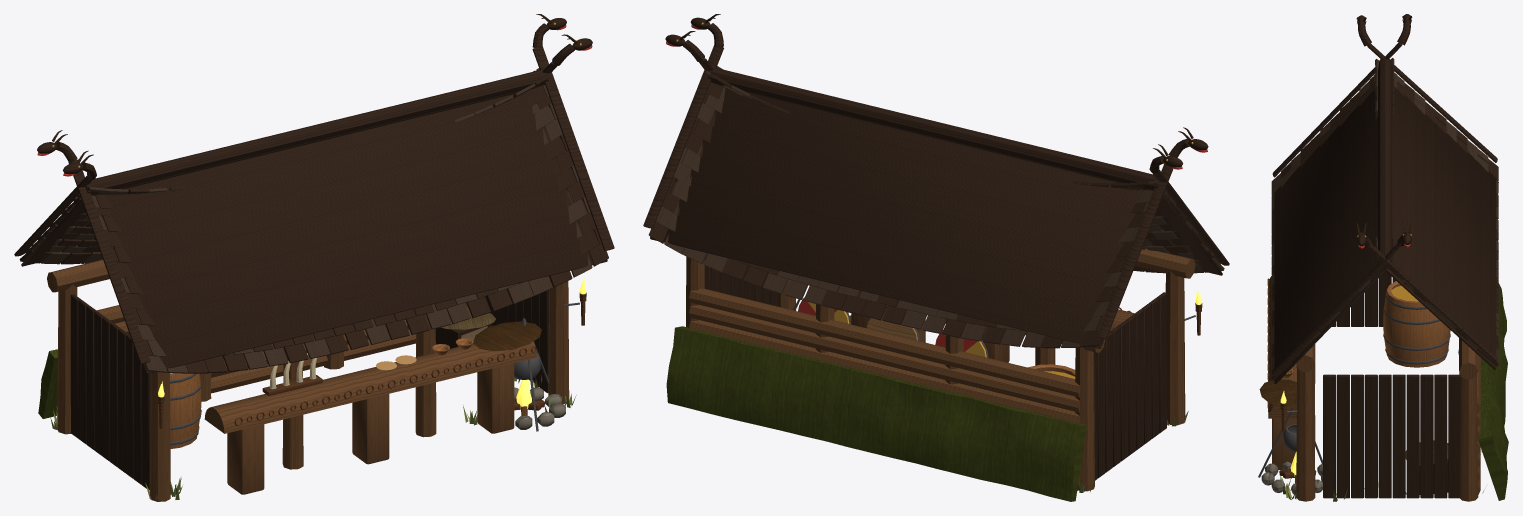
Rendered from tavern-norse.glb.
3 views of the same model, side by side, from view 1: azimuth 30°, elevation 25°; view 2: azimuth 150°, elevation 25°; view 3: azimuth 270°, elevation 25° (orthographic). The views are drawn at different scales.
Parts seen in each view (by area): view 1: tavern_norse; view 2: tavern_norse; view 3: tavern_norse.
Boxes of the visible parts, x1,y1,x2,y2 form: tavern_norse: (14, 14, 614, 501); tavern_norse: (643, 14, 1229, 501); tavern_norse: (1258, 14, 1508, 501).
Size of the model in its own units: 10.92 by 6.59 by 5.09.
25 materials, 12 textured.
